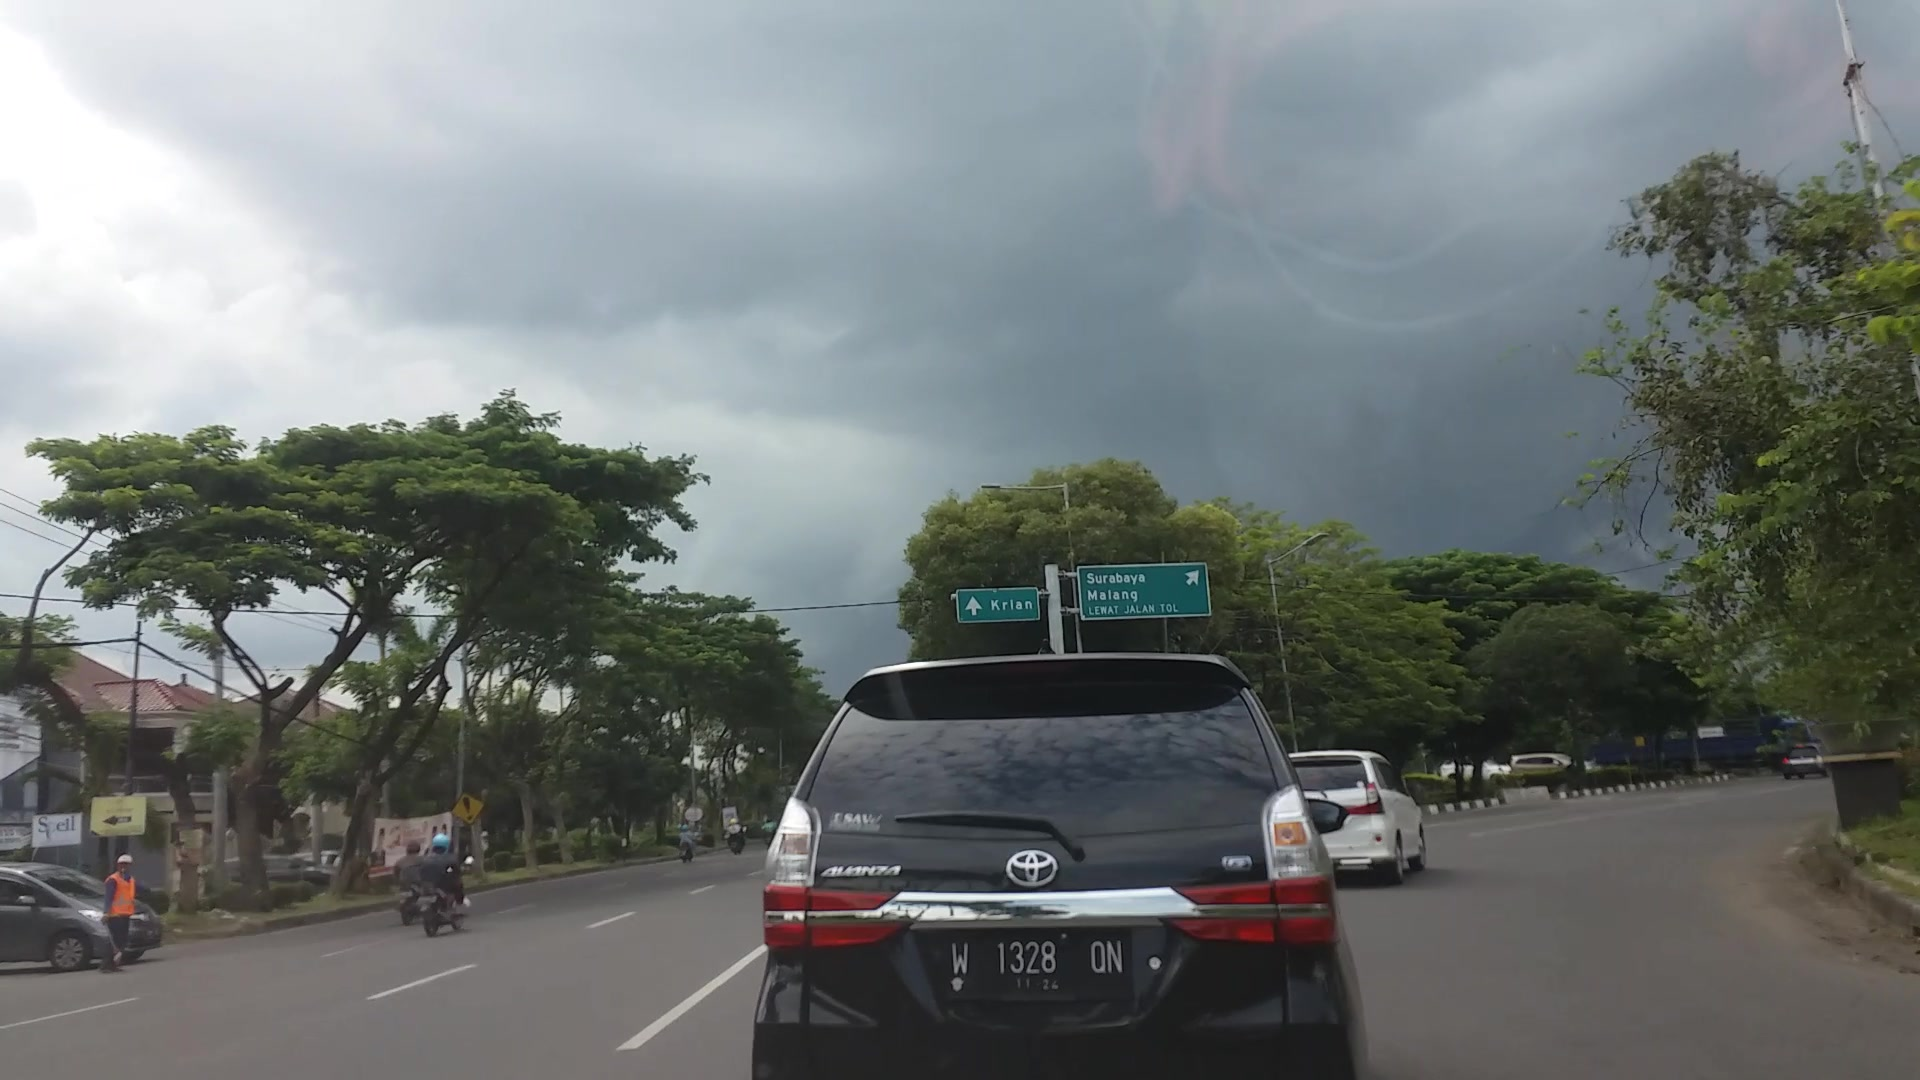plate_positive: (945, 930, 1129, 996)
